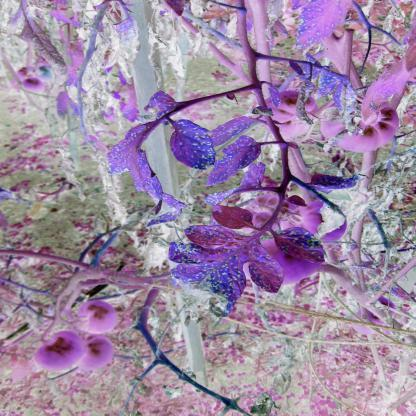Tomato Septoria leaf spot: (162, 218, 278, 314), (93, 112, 188, 214), (204, 134, 268, 192), (160, 116, 218, 170), (273, 228, 332, 265), (301, 170, 369, 192)
